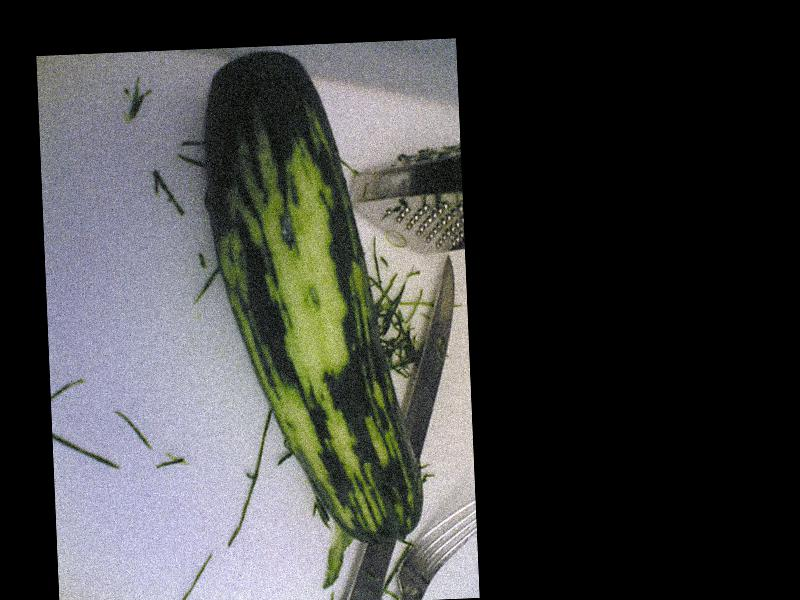Cucumber: (199, 45, 426, 552)
